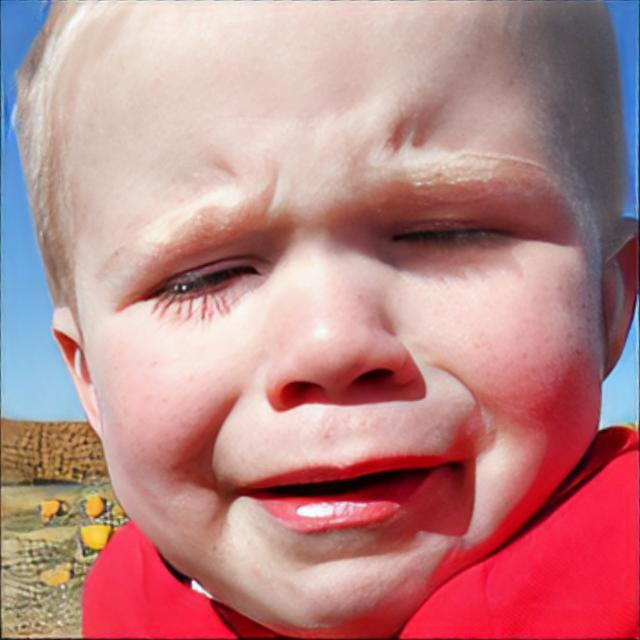sad: (69, 0, 606, 640)
